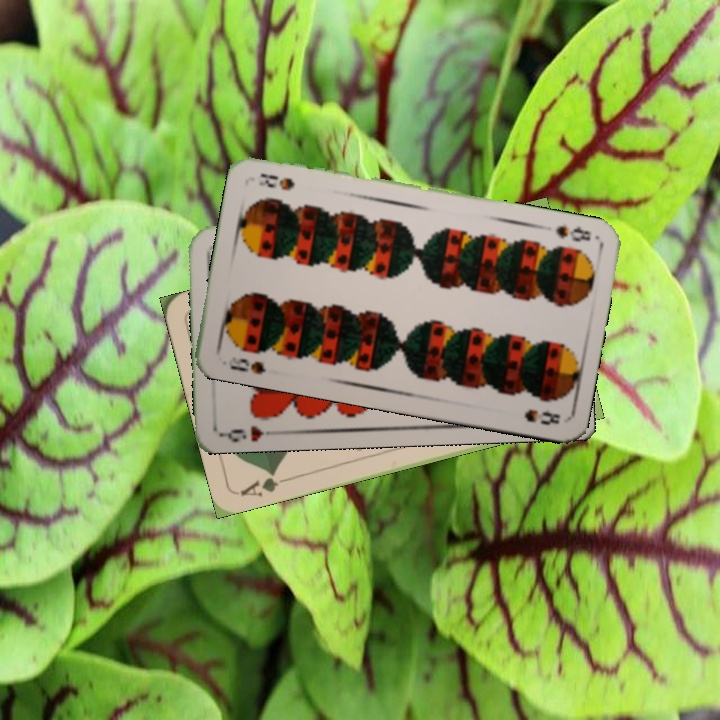GA: (236, 467, 294, 499)
H9: (219, 421, 278, 444)
S8: (218, 352, 268, 377), (551, 220, 594, 245)
